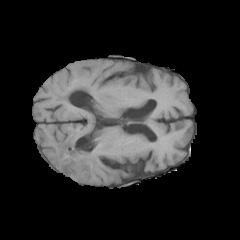glioma: (51, 80, 99, 178)
